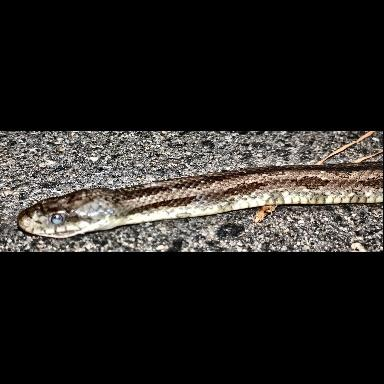snake: (17, 169, 381, 239)
